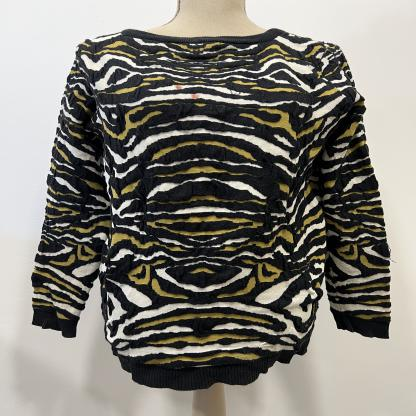stain: (171, 82, 186, 92), (188, 92, 203, 102)
